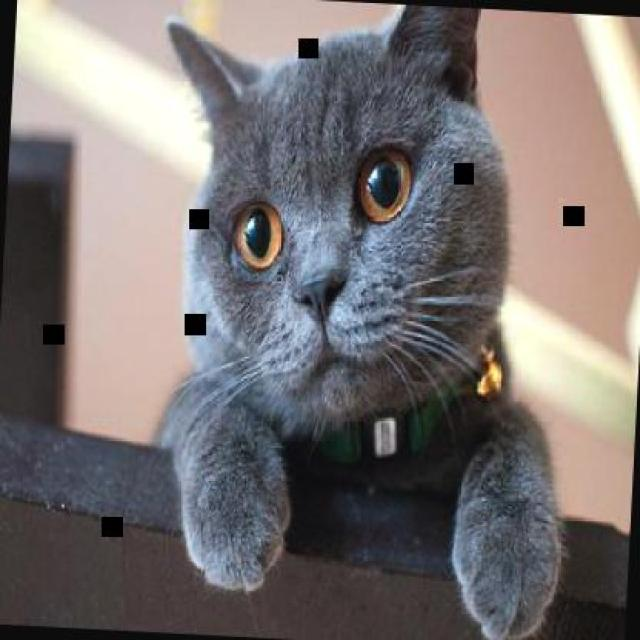cat: (133, 0, 589, 638)
